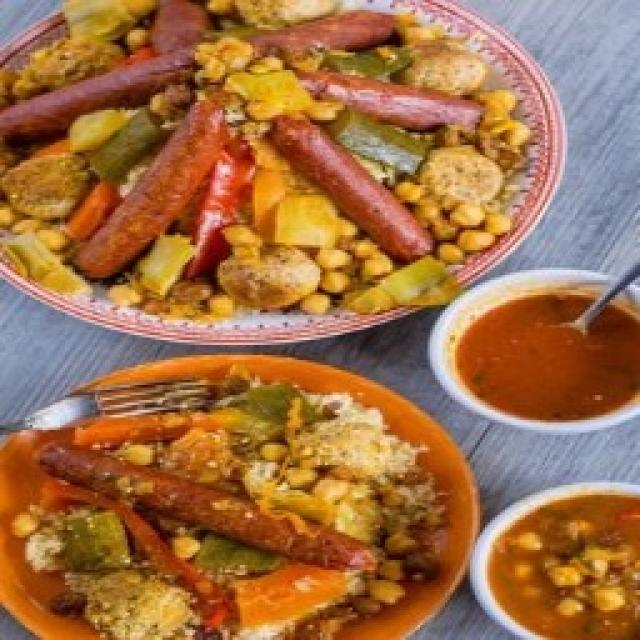Couscous: (0, 0, 530, 321)
